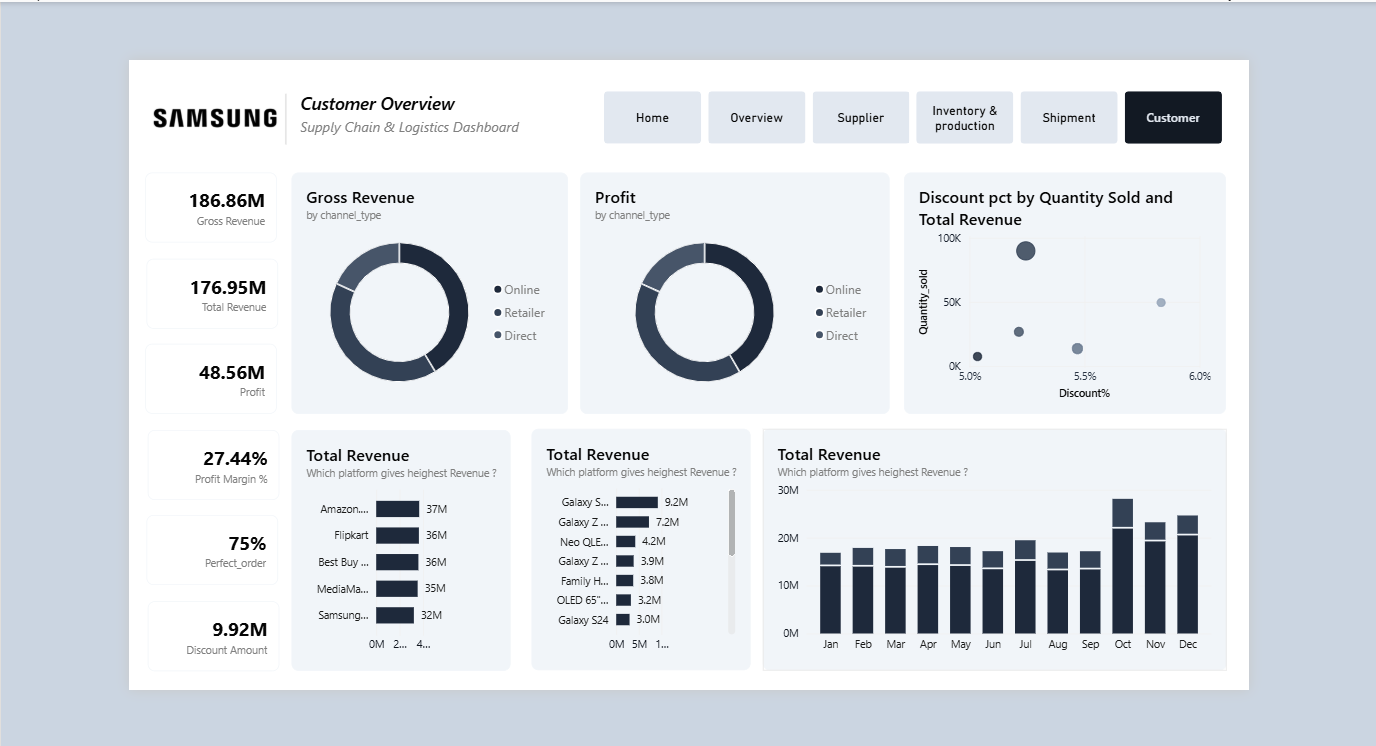

The dashboard page shown, as its layout file describes it:
{"tool":"powerbi","page":{"name":"Customer","canvas":[1280,720],"ordinal":5},"visuals":[{"type":"image","box":[16.5,36.9,156,58],"z":7000},{"type":"shape","title":"Customer Overview","box":[196.4,36.4,263.6,62.7],"z":17000},{"type":"shape","box":[159.1,38.9,41.3,58],"z":18000},{"type":"cardVisual","fields":{"Data":["Measure Table.Total_revenue"]},"box":[20,226.5,150,80],"z":19000},{"type":"cardVisual","fields":{"Data":["Measure Table.Profit"]},"box":[19.2,324.5,150,80],"z":20000},{"type":"cardVisual","fields":{"Data":["Measure Table.Profit Margin %"]},"box":[20.8,422.4,150,80],"z":21000},{"type":"cardVisual","fields":{"Data":["Sum(fact_sales.discount_amount)"]},"box":[21.7,618.3,150,80],"z":22000},{"type":"cardVisual","fields":{"Data":["Measure Table.Perfect_order"]},"box":[20,520.4,150,80],"z":23000},{"type":"cardVisual","fields":{"Data":["Sum(fact_sales.gross_revenue)"]},"box":[18.6,128.6,150,80],"z":24000},{"type":"barChart","title":"Total Revenue ","fields":{"Category":["dim_customer.customer_name"],"Y":["Measure Table.Total_revenue"]},"box":[186.4,422.7,250,275.5],"z":36000},{"type":"pageNavigator","box":[542.9,35.7,711.4,60],"z":45000},{"type":"donutChart","fields":{"Y":["Sum(fact_sales.gross_revenue)"],"Category":["dim_customer.channel_type"]},"box":[185.8,127.9,316.1,276.3],"z":45001},{"type":"donutChart","fields":{"Y":["Sum(fact_sales.profit)"],"Category":["dim_customer.channel_type"]},"box":[516.4,127.9,353.5,276.3],"z":45002},{"type":"barChart","title":"Total Revenue ","fields":{"Category":["dim_product.product_name"],"Y":["Sum(fact_sales.profit)"]},"box":[460,422,250,276],"z":45003},{"type":"lineStackedColumnComboChart","title":"Total Revenue ","fields":{"Category":["dim_date.Month_sort"],"Y":["Sum(fact_sales.gross_revenue)","Sum(fact_sales.profit)"]},"box":[724,422,530,276],"z":45004},{"type":"scatterChart","title":"Discount pct by Quantity Sold and Total Revenue","fields":{"X":["Measure Table.Discount%"],"Y":["Sum(fact_sales.quantity_sold)"],"Size":["Measure Table.Total_revenue"],"Series":["dim_product.category"]},"box":[885.5,127.9,368,276.3],"z":45005}]}

Visuals, with their boxes on the page's 1280x720 design canvas (x1, y1, x2, y2). These are canvas units, not pixel positions in the 1376x746 screenshot, which may show the page scaled, cropped or inside an application window:
image: l=16, t=37, r=172, b=95
"Customer Overview" shape: l=196, t=36, r=460, b=99
shape: l=159, t=39, r=200, b=97
cardVisual - Measure Table.Total_revenue: l=20, t=226, r=170, b=306
cardVisual - Measure Table.Profit: l=19, t=324, r=169, b=404
cardVisual - Measure Table.Profit Margin %: l=21, t=422, r=171, b=502
cardVisual - Sum(fact_sales.discount_amount): l=22, t=618, r=172, b=698
cardVisual - Measure Table.Perfect_order: l=20, t=520, r=170, b=600
cardVisual - Sum(fact_sales.gross_revenue): l=19, t=129, r=169, b=209
"Total Revenue " barChart: l=186, t=423, r=436, b=698
pageNavigator: l=543, t=36, r=1254, b=96
donutChart - Sum(fact_sales.gross_revenue) x dim_customer.channel_type: l=186, t=128, r=502, b=404
donutChart - Sum(fact_sales.profit) x dim_customer.channel_type: l=516, t=128, r=870, b=404
"Total Revenue " barChart: l=460, t=422, r=710, b=698
"Total Revenue " lineStackedColumnComboChart: l=724, t=422, r=1254, b=698
"Discount pct by Quantity Sold and Total Revenue" scatterChart: l=886, t=128, r=1254, b=404
